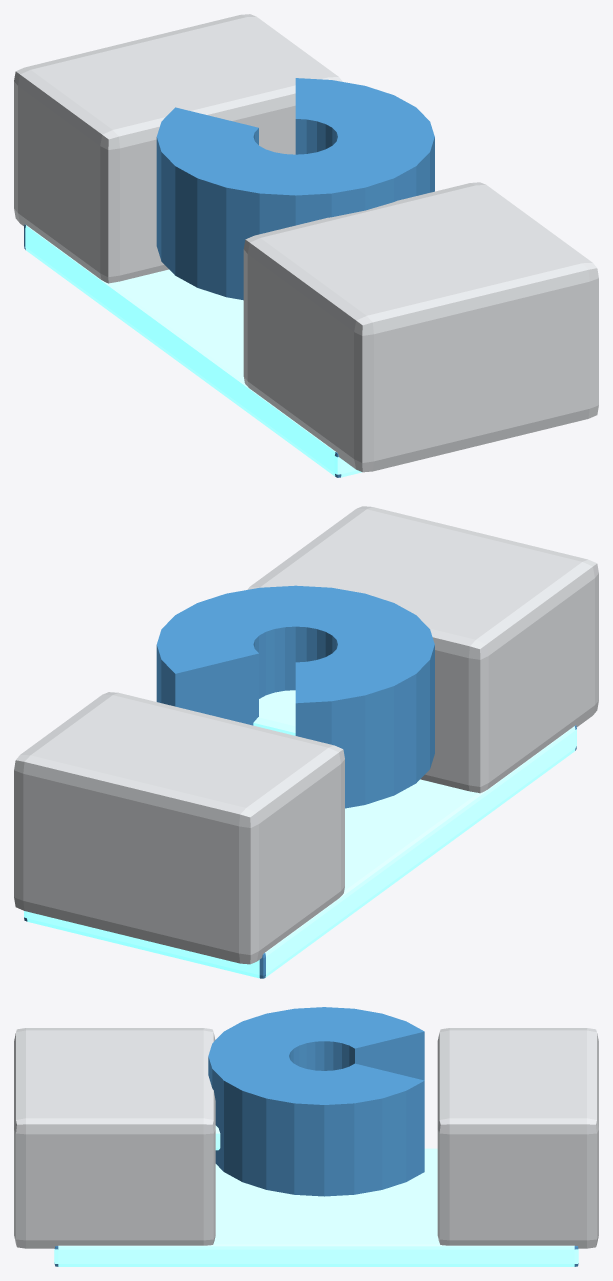
File: left_boot__toe_hero.glb
3 renders of one model, top to bottom at view 1: azimuth 30°, elevation 25°; view 2: azimuth 150°, elevation 25°; view 3: azimuth 270°, elevation 25°, orthographic. The views are drawn at different scales.
Visible parts, largest first — view 1: armor_armor_left_boot__toe_hero_v001_v001; view 2: armor_armor_left_boot__toe_hero_v001_v001; view 3: armor_armor_left_boot__toe_hero_v001_v001.
Part boxes in pixels (bbox=[...]): armor_armor_left_boot__toe_hero_v001_v001: bbox=[14, 14, 598, 477]; armor_armor_left_boot__toe_hero_v001_v001: bbox=[14, 506, 598, 978]; armor_armor_left_boot__toe_hero_v001_v001: bbox=[14, 1007, 598, 1266].
Bounding box in the file's own units: 0.115 × 0.089 × 0.29.
